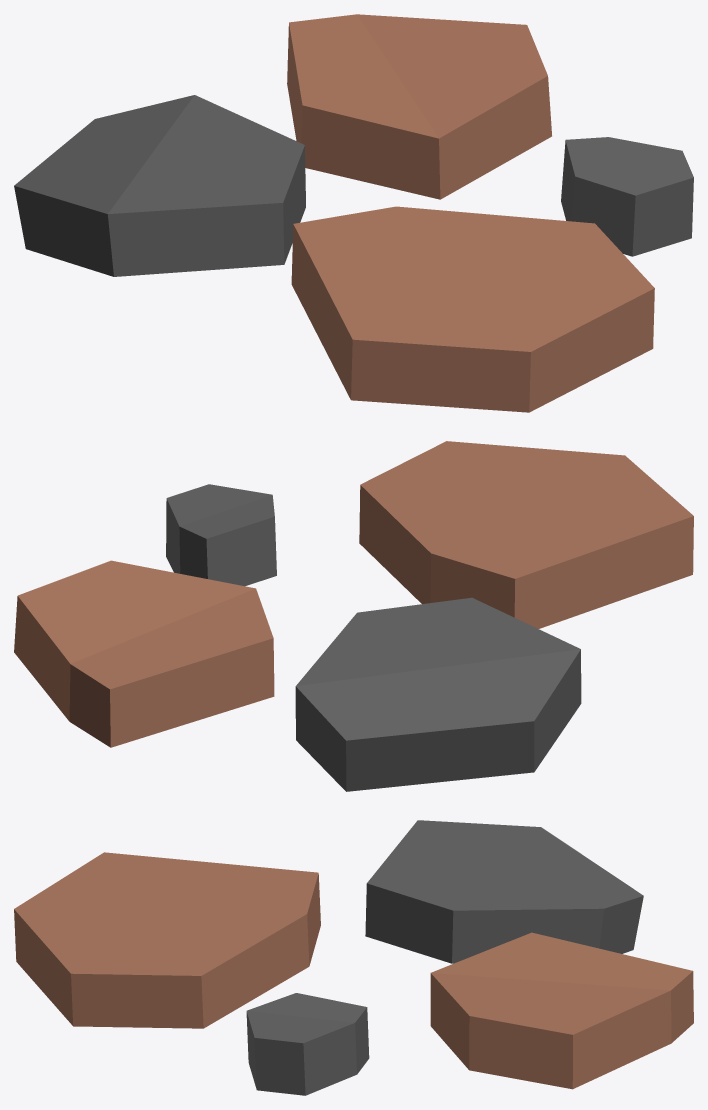
File: Stoneplates1.fbx
3 views of the same model, one above another, from view 1: azimuth 30°, elevation 25°; view 2: azimuth 150°, elevation 25°; view 3: azimuth 270°, elevation 25° (orthographic). The views are drawn at different scales.
Visible parts, largest first — view 1: Plane.011; view 2: Plane.011; view 3: Plane.011.
Boxes of the visible parts, x1=… form: Plane.011: x1=14, y1=14, x2=693, y2=412; Plane.011: x1=14, y1=441, x2=693, y2=791; Plane.011: x1=14, y1=820, x2=693, y2=1095.
Size of the model in its own units: 45.51 by 7.47 by 58.24.
